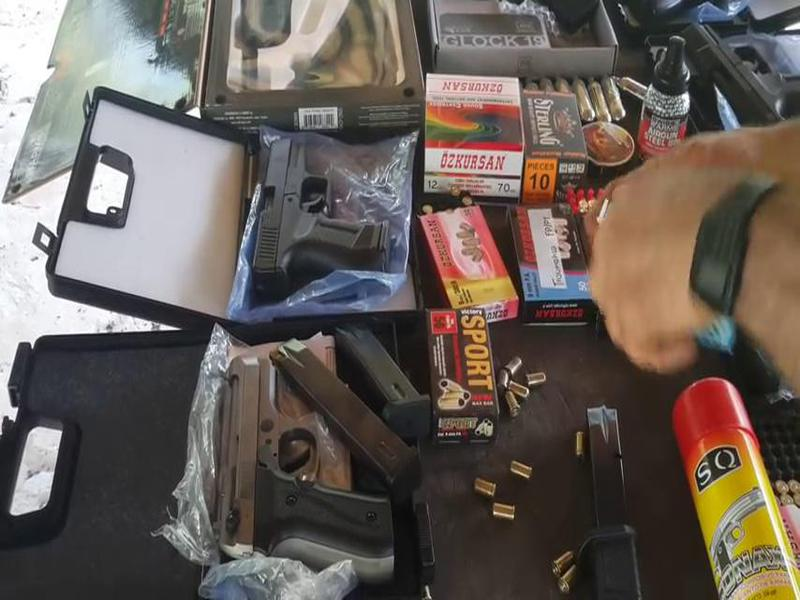Pistola: (156, 315, 395, 587), (232, 121, 399, 302)
